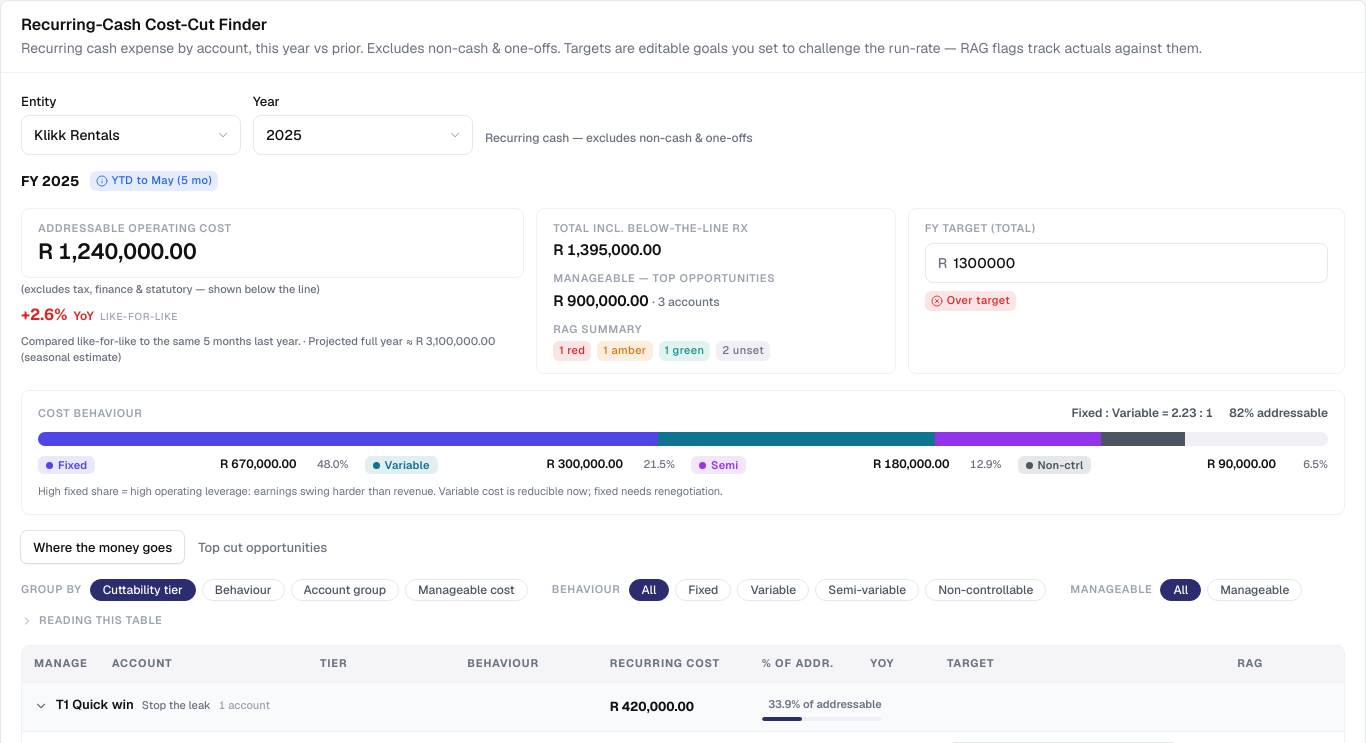
Test case: Area 3 — grouped table › behaviour filter narrows WITHIN groups on the accounts tab
Click the button "Fixed" in the row of "Group by". click: coordinates (703, 590)
box: left=675, top=579, right=731, bottom=601
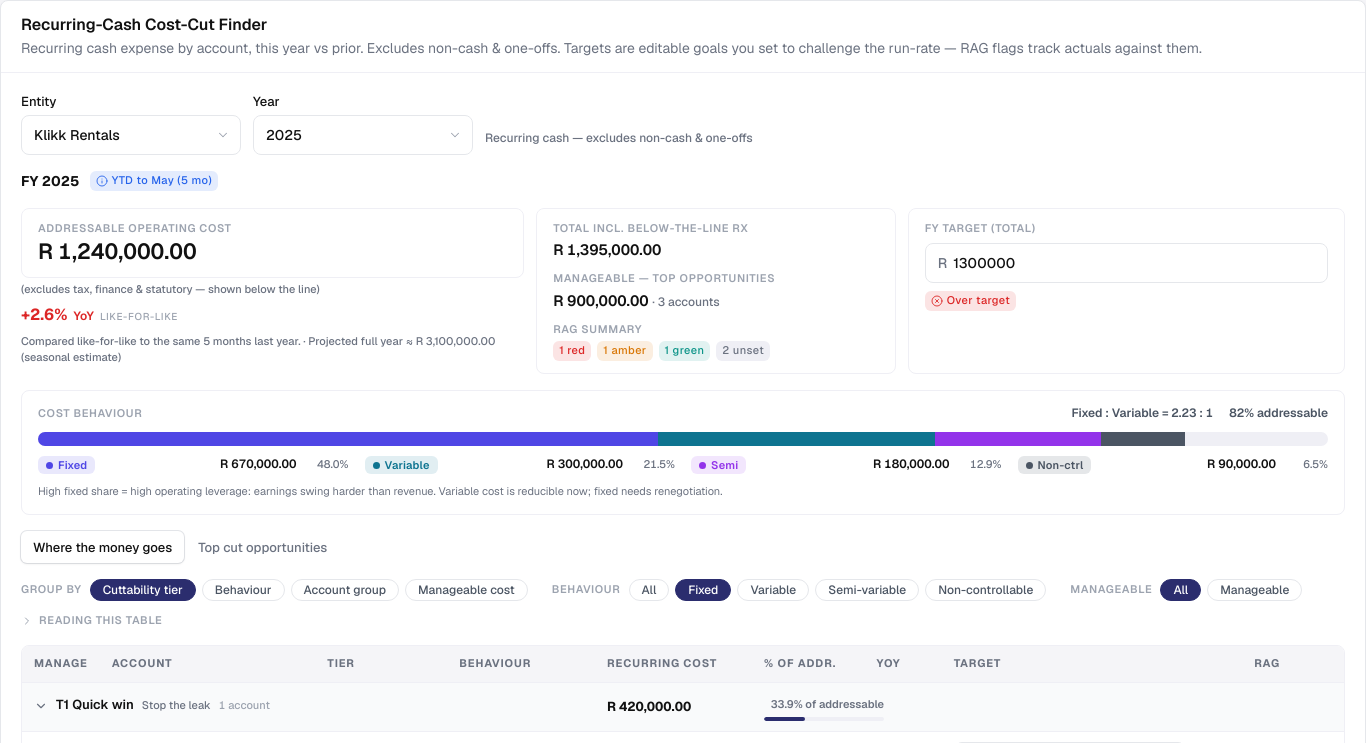
Click the button "Variable". click: coordinates (773, 590)
box: left=737, top=579, right=809, bottom=601
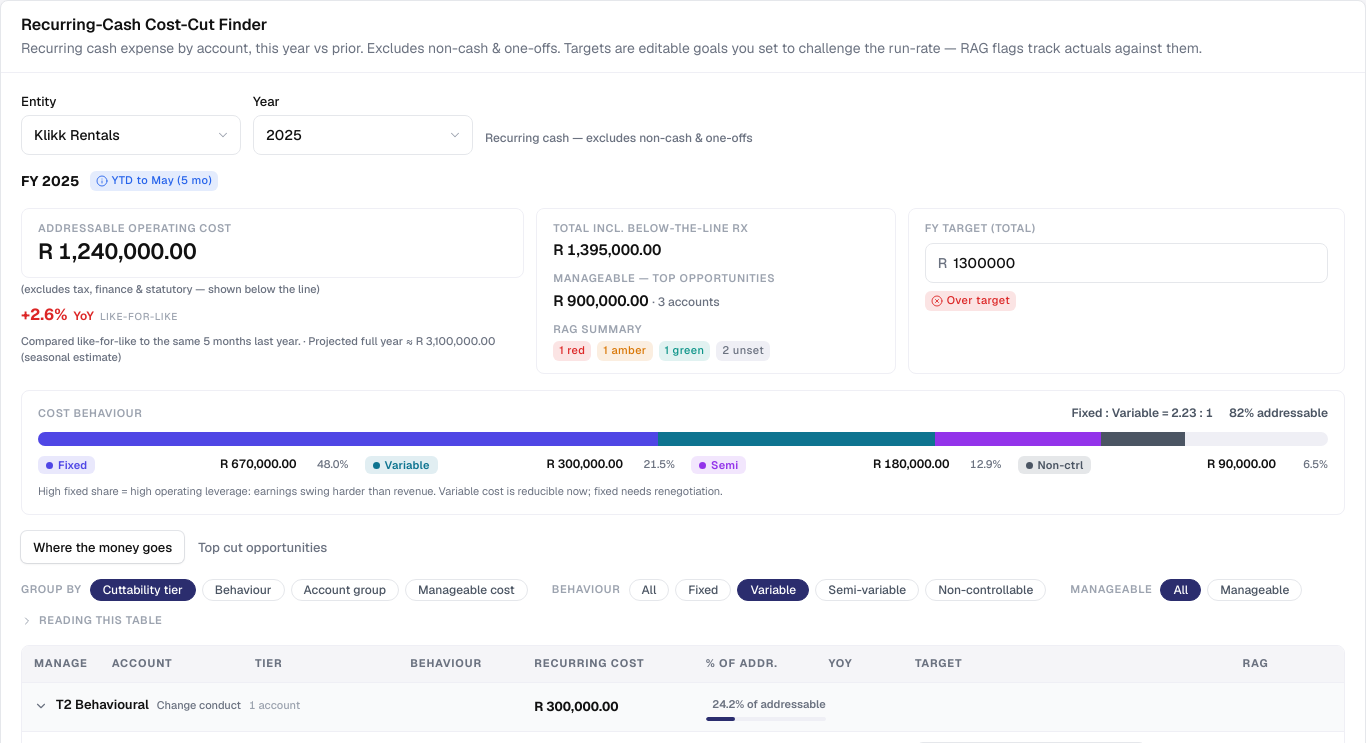
Click the 1st button "All". click: coordinates (649, 590)
box: left=629, top=579, right=669, bottom=601
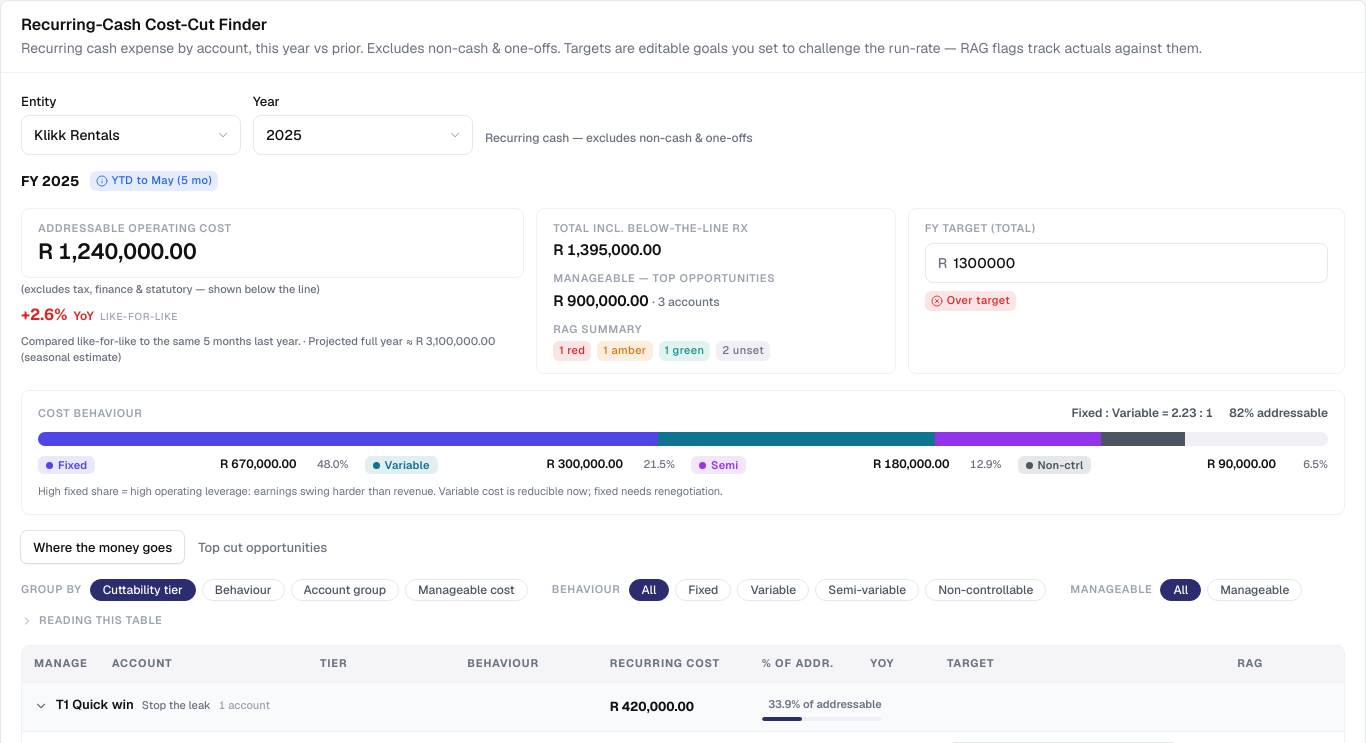
Now the number of "CostCutRow" components is 5
